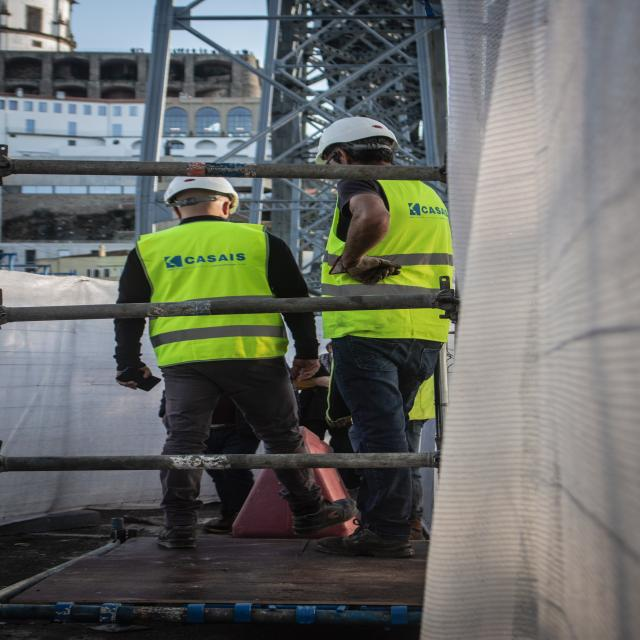helmet: (300, 113, 417, 169), (149, 153, 247, 213)
shoes: (295, 507, 436, 564), (278, 483, 363, 535), (147, 522, 204, 558)
vest: (309, 174, 468, 365), (124, 218, 303, 381)
